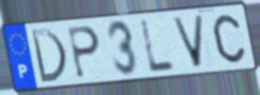3: (106, 18, 139, 80)
C: (211, 12, 248, 65)
D: (28, 28, 69, 85)
L: (139, 18, 178, 75)
P: (66, 25, 102, 80)
V: (170, 14, 207, 70)
